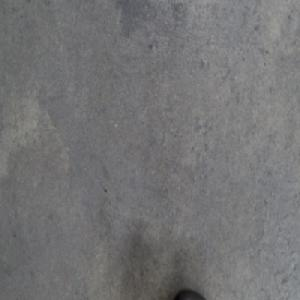AdjustableWrench: (173, 288, 206, 299)
